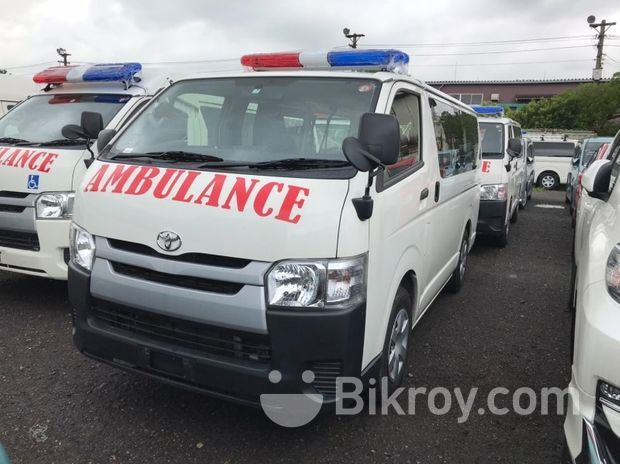ambulance: (63, 46, 481, 418), (1, 59, 165, 281), (473, 103, 530, 247)
